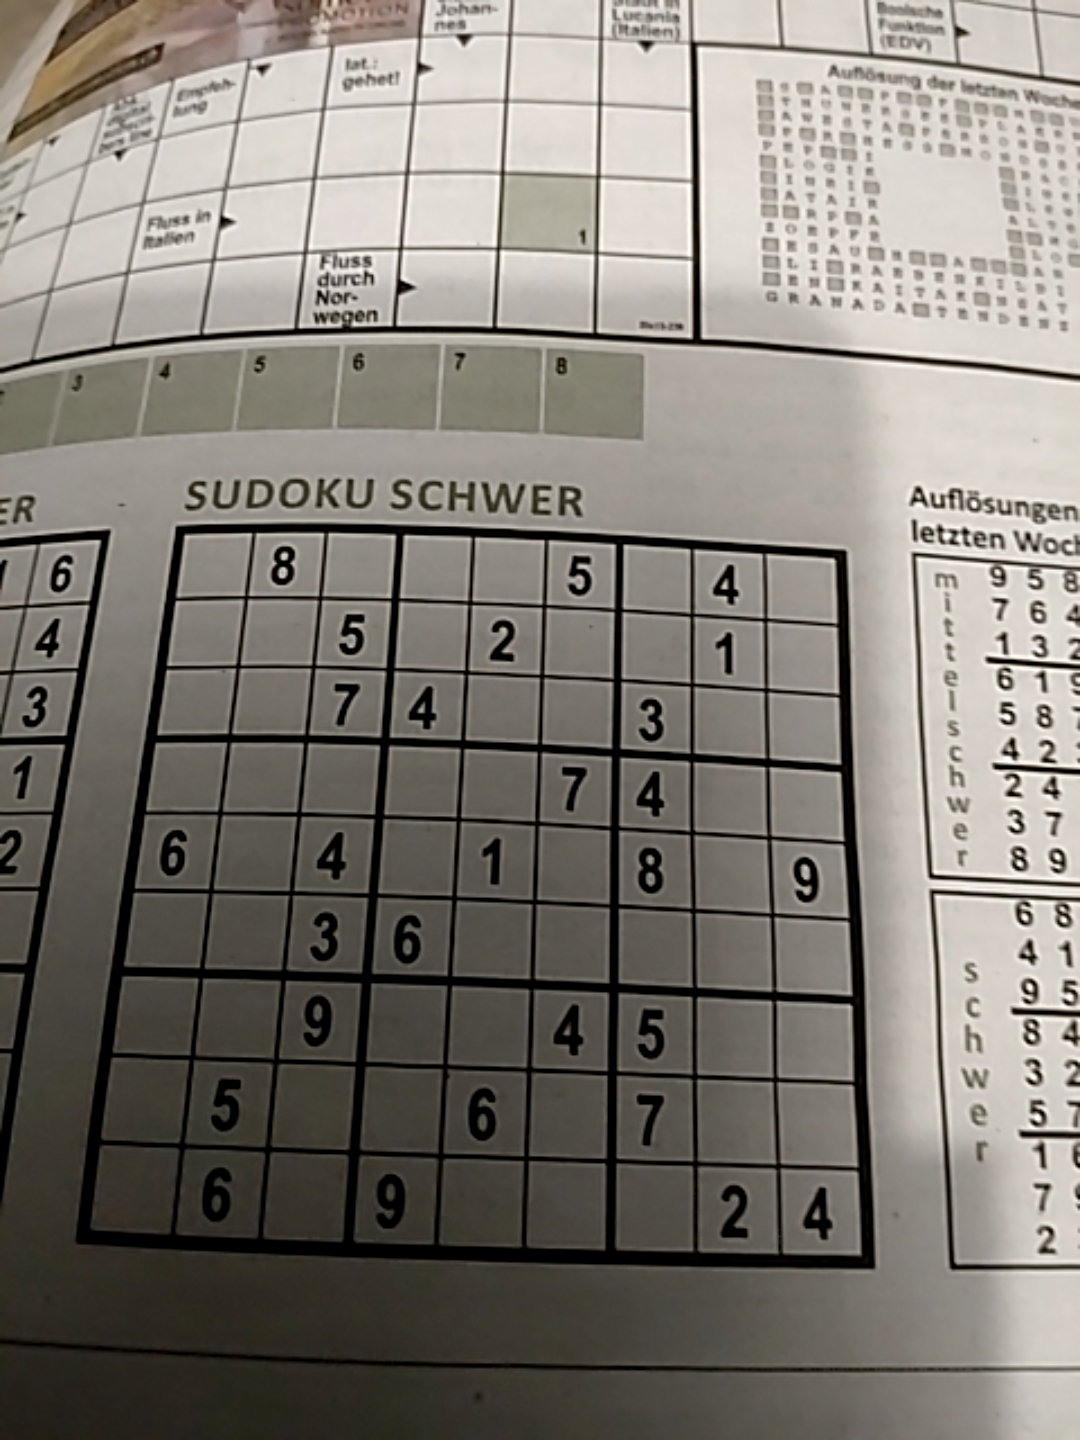sudoku: (79, 519, 873, 1261)
